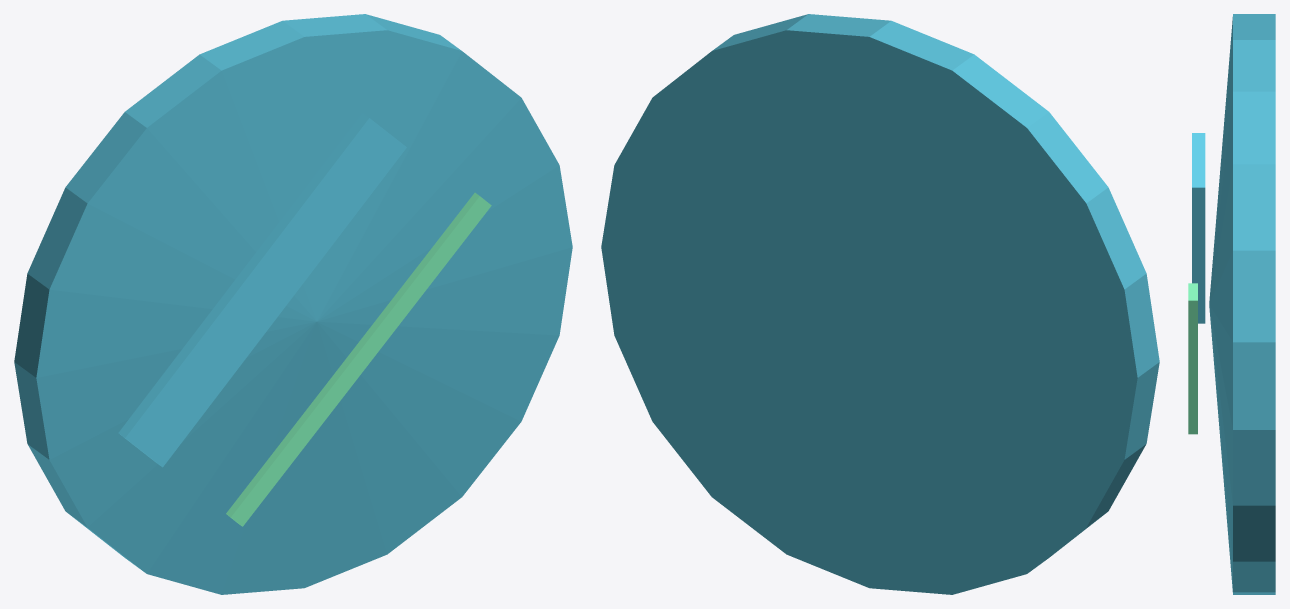
The model's file is full_moon.obj.
3 renders of one model, left to right at view 1: azimuth 30°, elevation 25°; view 2: azimuth 150°, elevation 25°; view 3: azimuth 270°, elevation 25°, orthographic. The views are drawn at different scales.
Parts seen in each view (by area): view 1: full_moon, moon_glint_broad, moon_glint_fine, moon_glint_broad_edge, moon_glint_fine_edge; view 2: full_moon; view 3: full_moon, moon_glint_broad_edge, moon_glint_fine_edge.
Part boxes in pixels (box(x1,y1,x2,y2)): full_moon: box(14, 14, 572, 594); moon_glint_broad: box(125, 118, 406, 467); moon_glint_fine: box(231, 196, 491, 526); moon_glint_broad_edge: box(118, 113, 368, 464); moon_glint_fine_edge: box(226, 192, 479, 524); full_moon: box(601, 14, 1159, 594); full_moon: box(1209, 14, 1275, 594); moon_glint_broad_edge: box(1192, 133, 1205, 323); moon_glint_fine_edge: box(1188, 283, 1197, 434).
Size of the model in its own units: 1.12 by 1.1 by 0.164.
